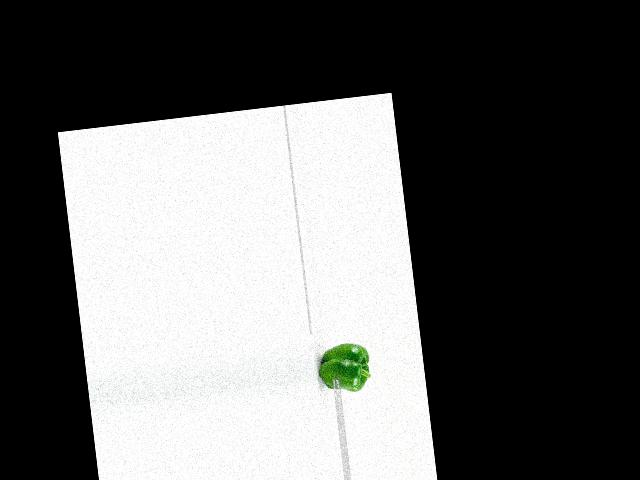bell_pepper: (313, 338, 375, 395)
